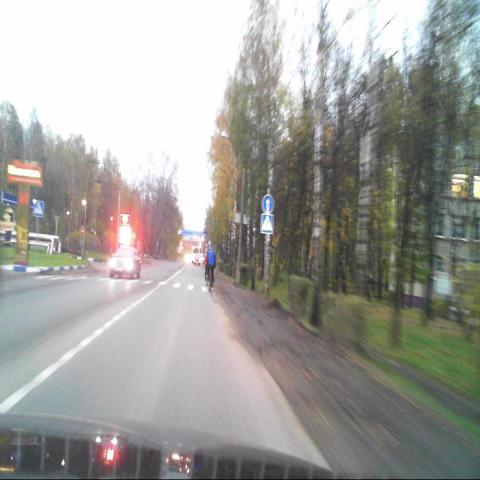4_1_1: (262, 195, 272, 213)
5_19_1: (261, 213, 273, 234), (34, 201, 44, 218)
